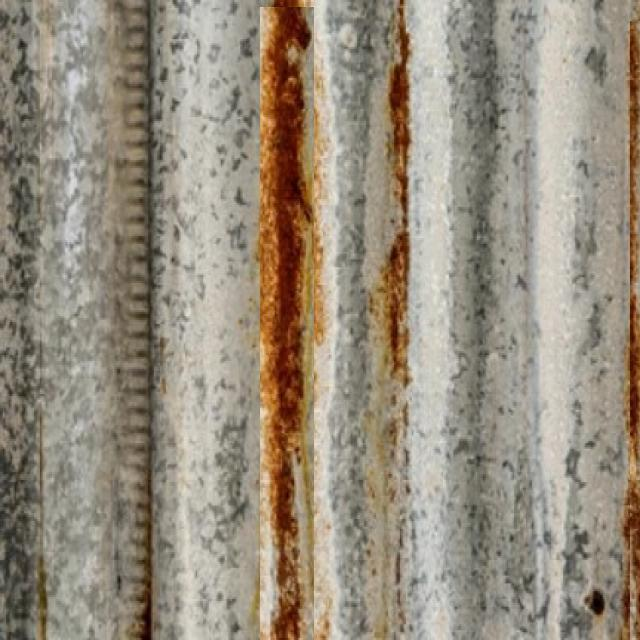Corrosion: (314, 0, 411, 640), (261, 0, 313, 640), (261, 451, 310, 640), (626, 0, 640, 632)
